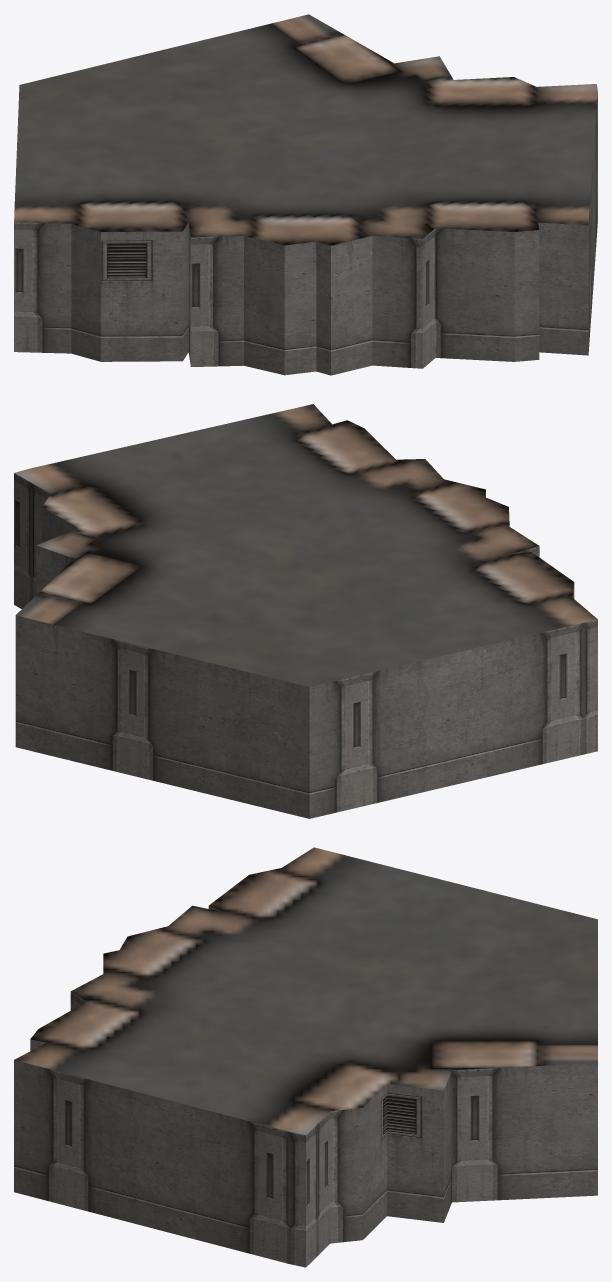
File: building_hard_37.glb
3 views of the same model, one above another, from view 1: azimuth 30°, elevation 25°; view 2: azimuth 150°, elevation 25°; view 3: azimuth 270°, elevation 25° (orthographic).
Parts seen in each view (by area): view 1: buildings/saxarba/building_hard/building_hard_37; view 2: buildings/saxarba/building_hard/building_hard_37; view 3: buildings/saxarba/building_hard/building_hard_37.
Part boxes in pixels (x1=…): buildings/saxarba/building_hard/building_hard_37: x1=14, y1=14, x2=597, y2=375; buildings/saxarba/building_hard/building_hard_37: x1=14, y1=404, x2=597, y2=818; buildings/saxarba/building_hard/building_hard_37: x1=14, y1=847, x2=597, y2=1267.
Size of the model in its own units: 84 by 18 by 72.
